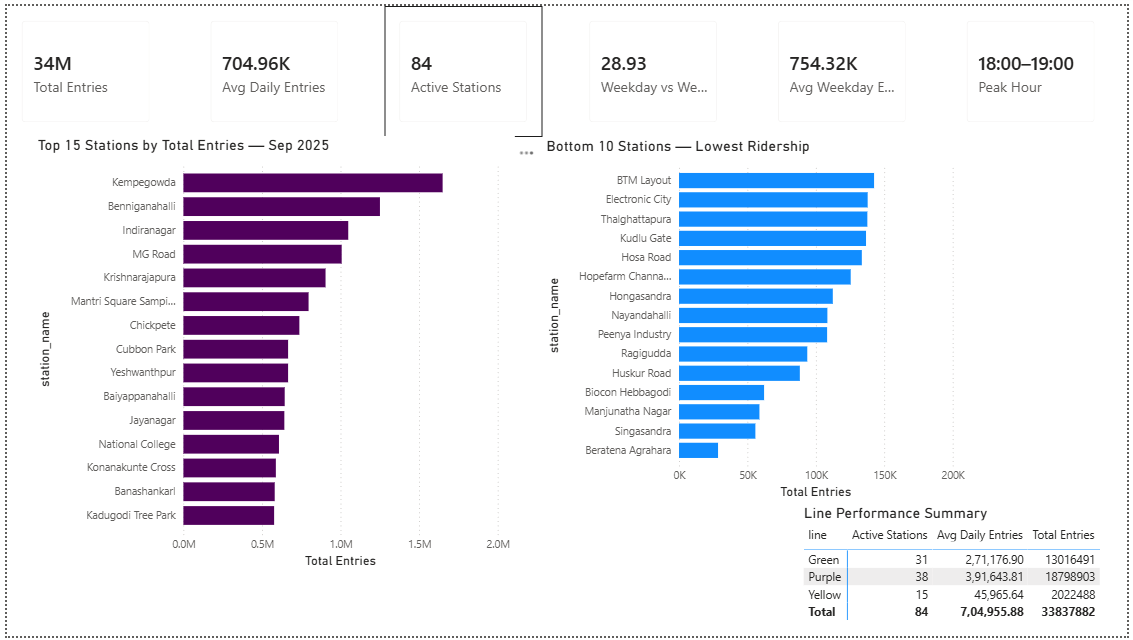

What the dashboard file says about the page in this screenshot:
{"tool":"powerbi","page":{"name":"Station Intelligence","canvas":[1280,720],"ordinal":1},"visuals":[{"type":"cardVisual","fields":{"Data":["powerbi_ridership.Total Entries"]},"box":[0,0,180,150],"z":0},{"type":"cardVisual","fields":{"Data":["powerbi_ridership.Avg Daily Entries"]},"box":[216,0,180,150],"z":1000},{"type":"cardVisual","fields":{"Data":["powerbi_ridership.Active Stations"]},"box":[432,0,180,150],"z":2000},{"type":"cardVisual","fields":{"Data":["powerbi_ridership.Weekday vs Weekend %"]},"box":[648,0,180,150],"z":3000},{"type":"cardVisual","fields":{"Data":["powerbi_ridership.Peak Hour"]},"box":[1080,0,180,150],"z":4000},{"type":"cardVisual","fields":{"Data":["powerbi_ridership.Avg Weekday Entries"]},"box":[864,0,180,150],"z":5000},{"type":"clusteredBarChart","title":"Top 15 Stations by Total Entries — Sep 2025","fields":{"Category":["powerbi_ridership.station_name"],"Y":["powerbi_ridership.Total Entries"]},"box":[30,148.6,550,498.6],"z":6000},{"type":"pivotTable","title":"Line Performance Summary","fields":{"Rows":["powerbi_ridership.line"],"Values":["powerbi_ridership.Active Stations","powerbi_ridership.Avg Daily Entries","powerbi_ridership.Total Entries"]},"box":[905.7,568.6,374.3,147.1],"z":7000},{"type":"clusteredBarChart","title":"Bottom 10 Stations — Lowest Ridership","fields":{"Category":["powerbi_ridership.station_name"],"Y":["powerbi_ridership.Total Entries"]},"box":[611.4,150,488.6,418.6],"z":8000}]}

Visuals, with their boxes in screenshot pixels (x1, y1, x2, y2), scaled from the page's 1280x720 canvas onto the 1133x640 screenshot:
cardVisual - powerbi_ridership.Total Entries: bbox=(0, 0, 159, 133)
cardVisual - powerbi_ridership.Avg Daily Entries: bbox=(191, 0, 351, 133)
cardVisual - powerbi_ridership.Active Stations: bbox=(382, 0, 542, 133)
cardVisual - powerbi_ridership.Weekday vs Weekend %: bbox=(574, 0, 733, 133)
cardVisual - powerbi_ridership.Peak Hour: bbox=(956, 0, 1115, 133)
cardVisual - powerbi_ridership.Avg Weekday Entries: bbox=(765, 0, 924, 133)
"Top 15 Stations by Total Entries — Sep 2025" clusteredBarChart: bbox=(27, 132, 513, 575)
"Line Performance Summary" pivotTable: bbox=(802, 505, 1132, 636)
"Bottom 10 Stations — Lowest Ridership" clusteredBarChart: bbox=(541, 133, 974, 505)
